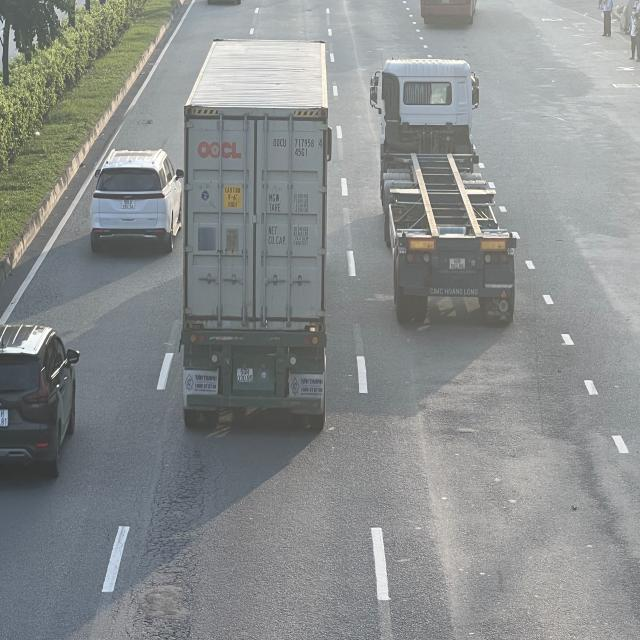car: (0, 321, 77, 475), (92, 151, 178, 256)
container: (183, 36, 336, 434), (370, 54, 516, 323)
